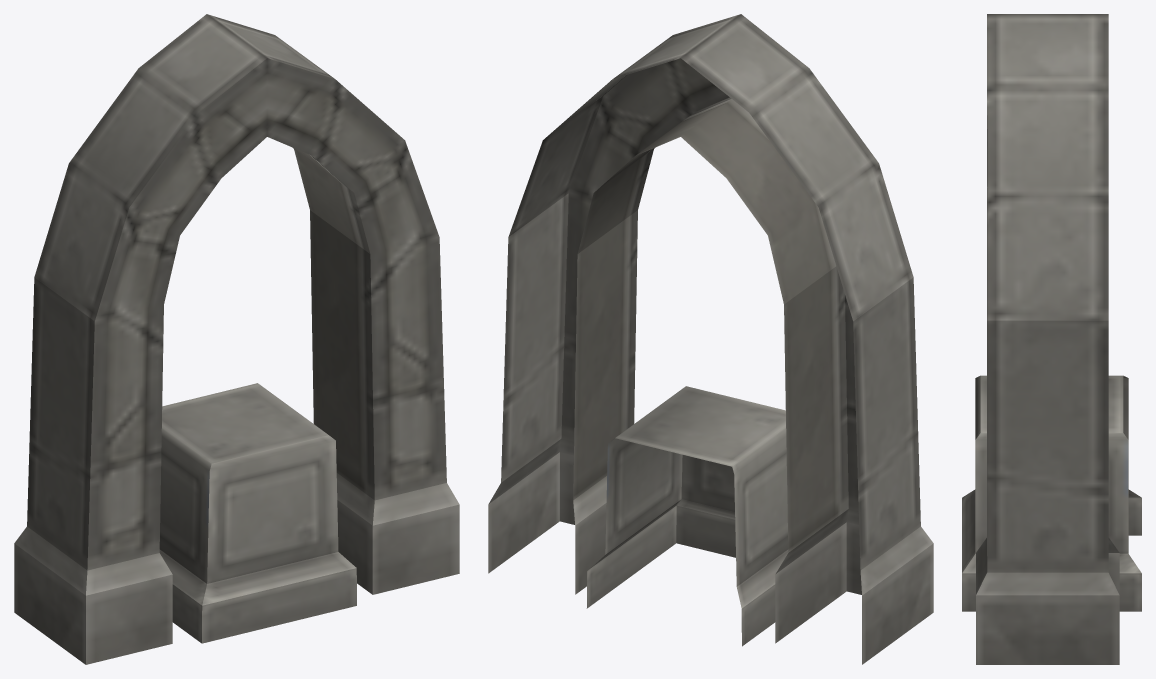
Rendered from all_mine_prop_9.FBX.
3 views of the same model, side by side, from view 1: azimuth 30°, elevation 25°; view 2: azimuth 150°, elevation 25°; view 3: azimuth 270°, elevation 25° (orthographic).
Parts seen in each view (by area): view 1: all_mine_prop_9_3; view 2: all_mine_prop_9_3; view 3: all_mine_prop_9_3.
Boxes of the visible parts, box(x1,y1,x2,y2) form: all_mine_prop_9_3: box(14, 14, 459, 664); all_mine_prop_9_3: box(488, 14, 933, 664); all_mine_prop_9_3: box(962, 14, 1141, 664).
Size of the model in its own units: 68.16 by 97.11 by 28.28.
